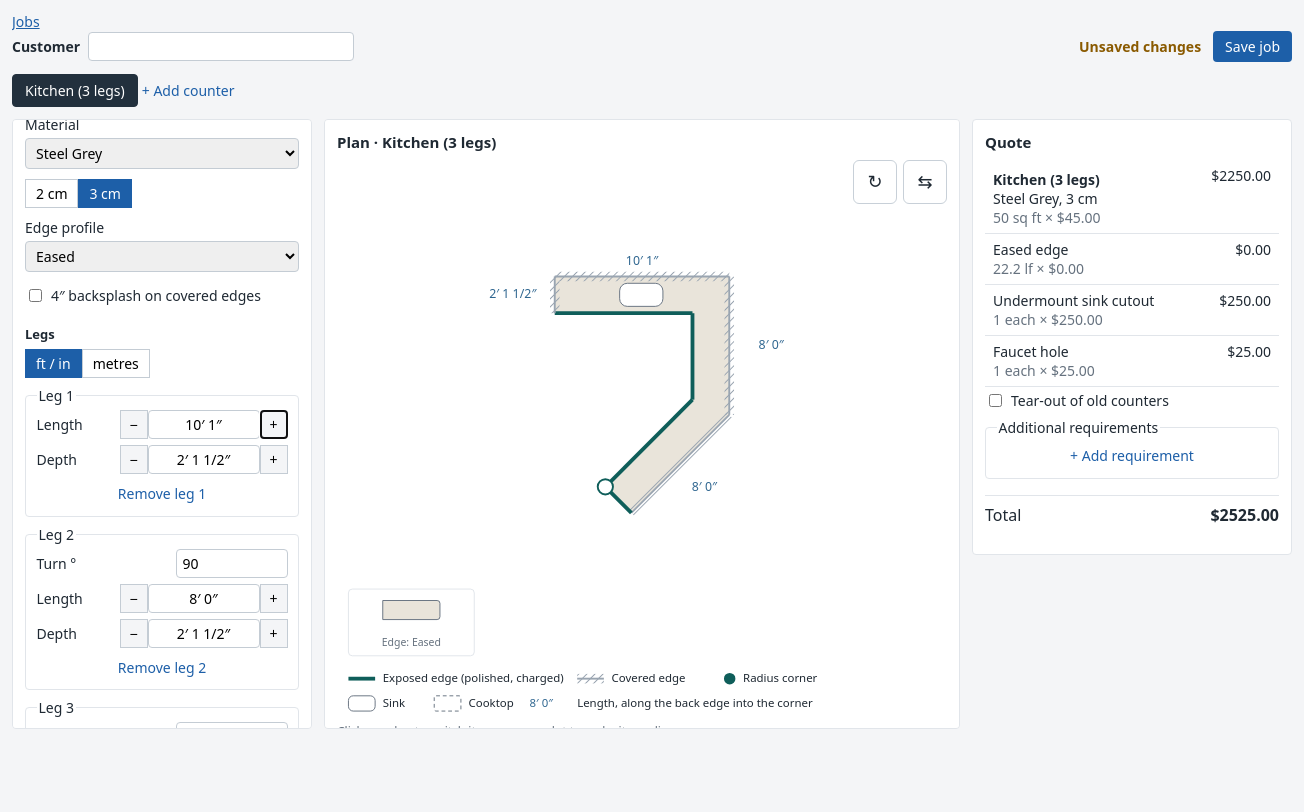
it: editing a counter › changes the layout, room, legs and sizes
Earlier steps of the test are not shown.
(page scrolled)
Expected: the field named "Leg 1 length" holds "10′ 1″", x1=148 y1=410 x2=260 y2=439
Click the button named "Leg 1 length smaller" at coordinates (134, 424), box x1=120 y1=410 x2=148 y2=439
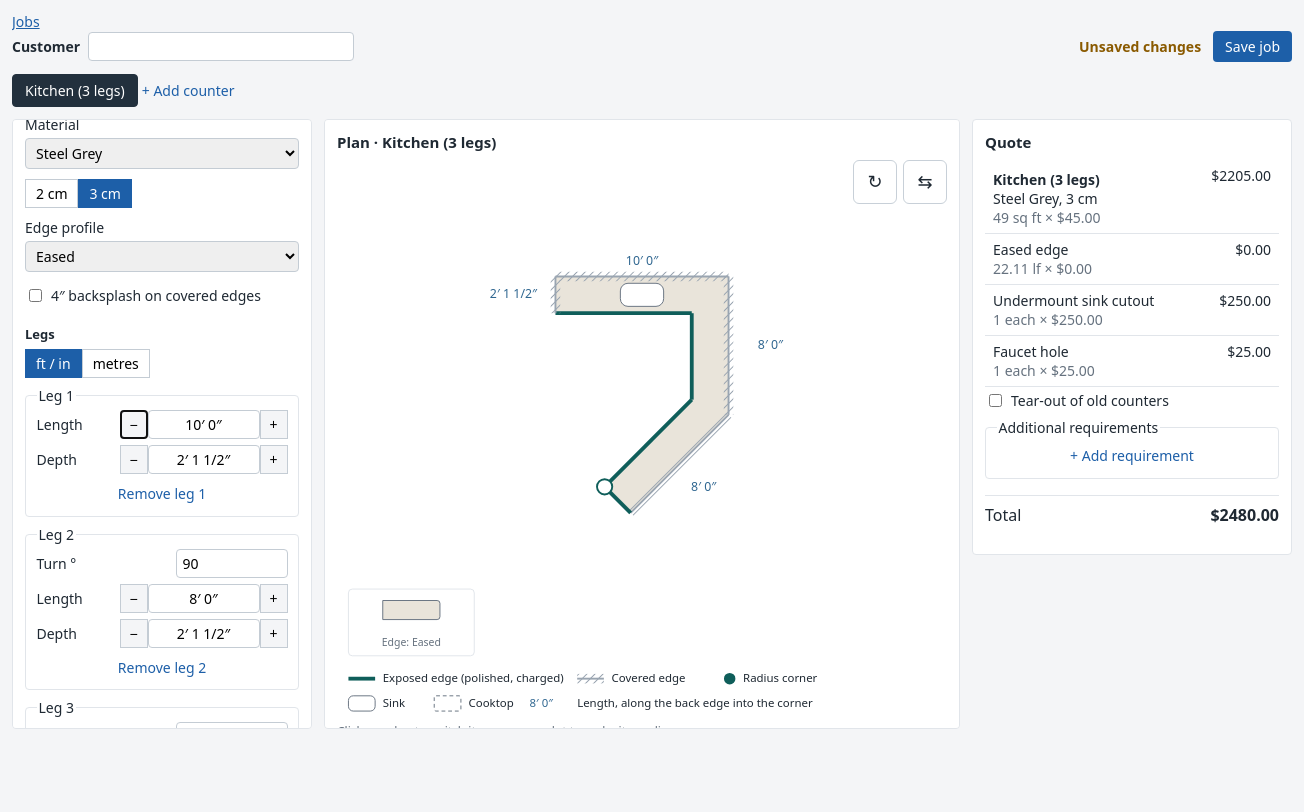
Expected: the field named "Leg 1 length" holds "10′ 0″", x1=148 y1=410 x2=260 y2=439
Click the button "metres" at coordinates (116, 364), box x1=82 y1=349 x2=150 y2=378
(page scrolled)
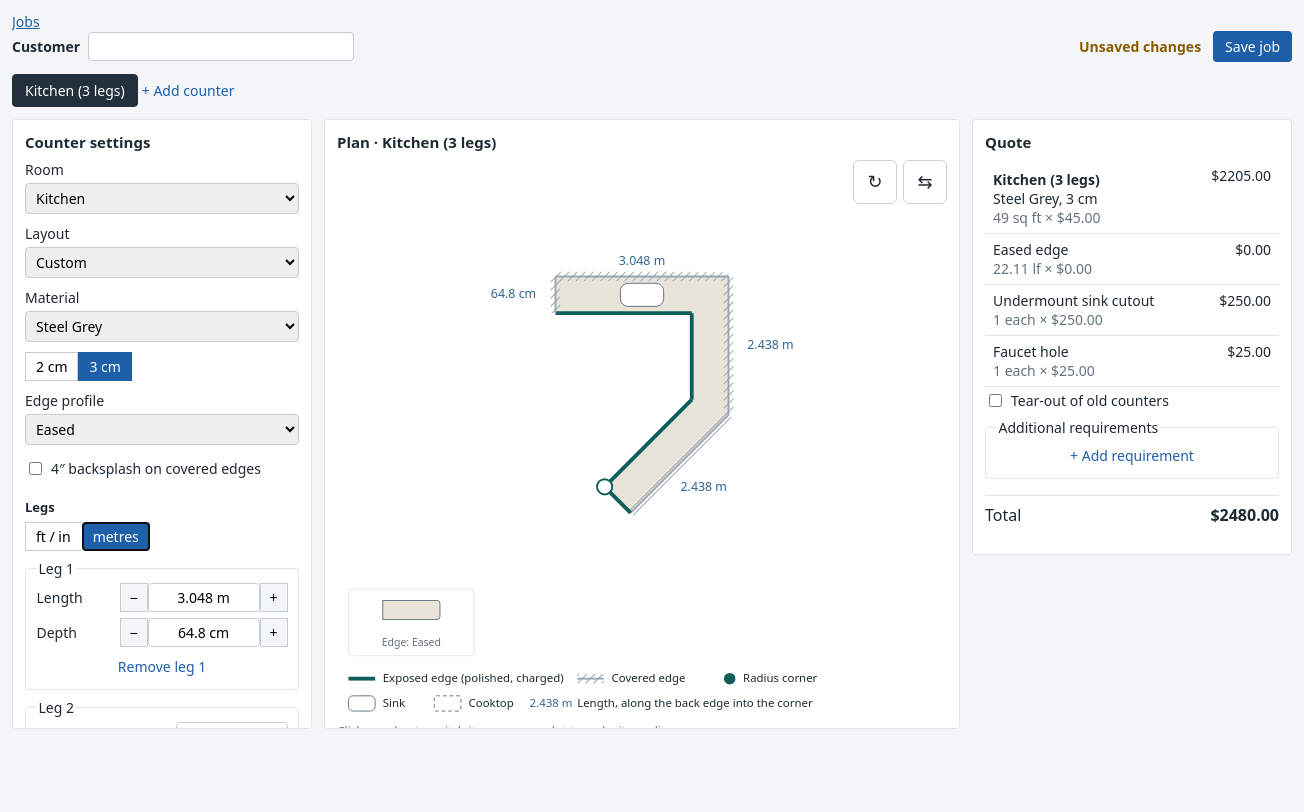
Expected: the field named "Leg 1 length" holds "3.048 m", x1=148 y1=583 x2=260 y2=612
Select "Island" in the dropdown labelled "Room" at coordinates (162, 198), box x1=25 y1=183 x2=299 y2=214
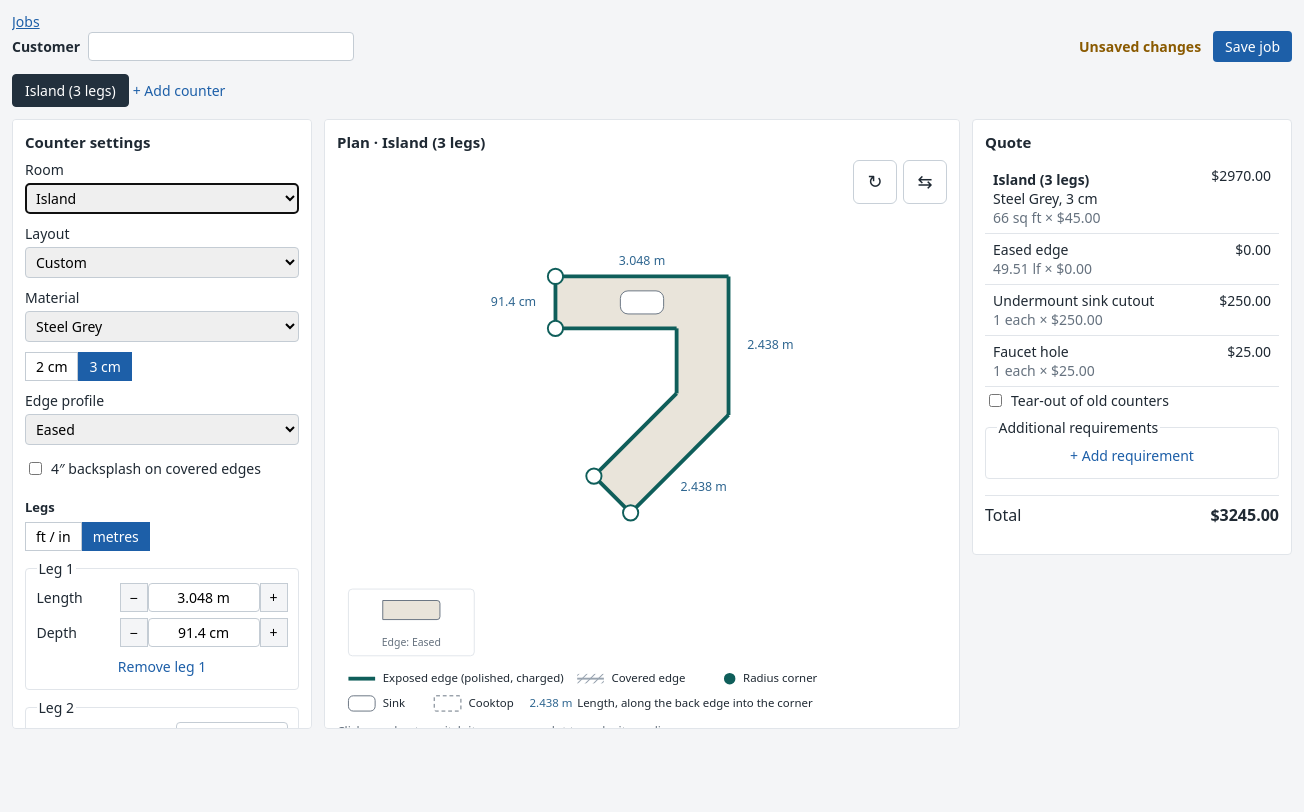
Expected: the field named "Leg 1 depth" holds "91.4 cm", x1=148 y1=618 x2=260 y2=647
